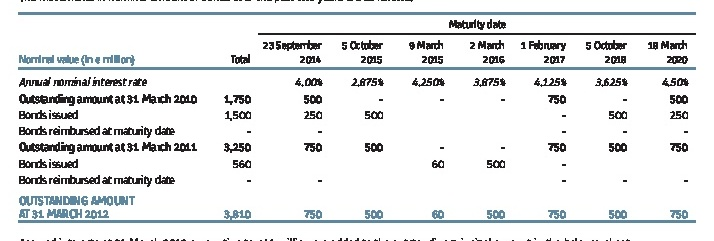table: (0, 0, 714, 241)
